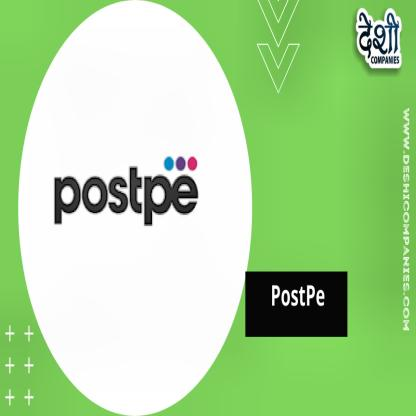Postpe: (54, 161, 199, 225)
